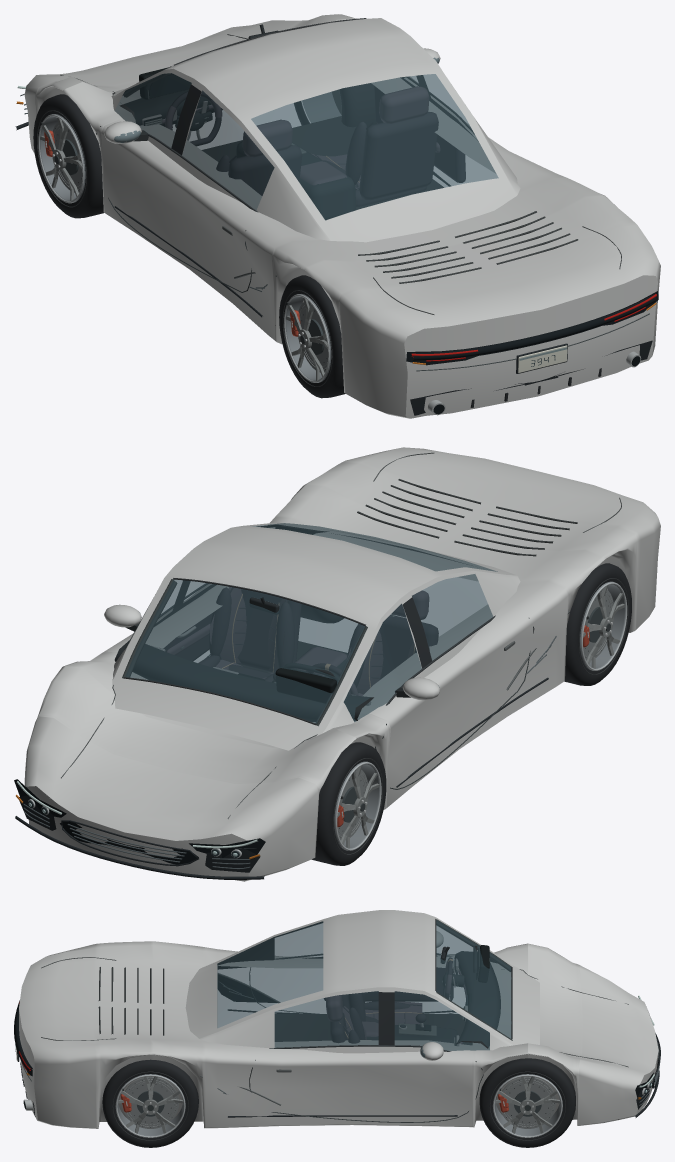
The model's file is corsa-z.glb.
3 renders of one model, top to bottom at view 1: azimuth 30°, elevation 25°; view 2: azimuth 150°, elevation 25°; view 3: azimuth 270°, elevation 25°, orthographic. The views are drawn at different scales.
Parts seen in each view (by area): view 1: paint, glass, wheelSurface (×3), trim, SeatUpholstery, CabinMouldings, CabinLeather, SteeringLeather; view 2: paint, glass, trim, wheelSurface (×2), SeatUpholstery, CabinMouldings, CabinLeather; view 3: paint, glass, wheelSurface (×2), trim, CabinMouldings, SeatUpholstery, CabinLeather, CockpitHardware.
Part boxes in pixels (x1,y1,x2,y2): paint: (24,14,660,418); glass: (114,57,498,220); wheelSurface (×3): (33,83,376,398); trim: (15,18,658,415); SeatUpholstery: (216,86,438,206); CabinMouldings: (119,24,443,219); CabinLeather: (162,86,465,184); SteeringLeather: (165,91,221,146); paint: (24,447,660,881); glass: (124,523,497,723); trim: (14,452,621,879); wheelSurface (×2): (311,563,631,865); SeatUpholstery: (199,587,438,695); CabinMouldings: (114,597,373,721); CabinLeather: (163,613,346,681); paint: (19,910,658,1128); glass: (217,920,511,1057); wheelSurface (×2): (102,1058,575,1147); trim: (14,919,660,1122); CabinMouldings: (275,945,500,1048); SeatUpholstery: (326,992,421,1043); CabinLeather: (324,967,466,1043); CockpitHardware: (399,947,479,1045).
Size of the model in its own units: 2.13 by 1.22 by 4.67.
